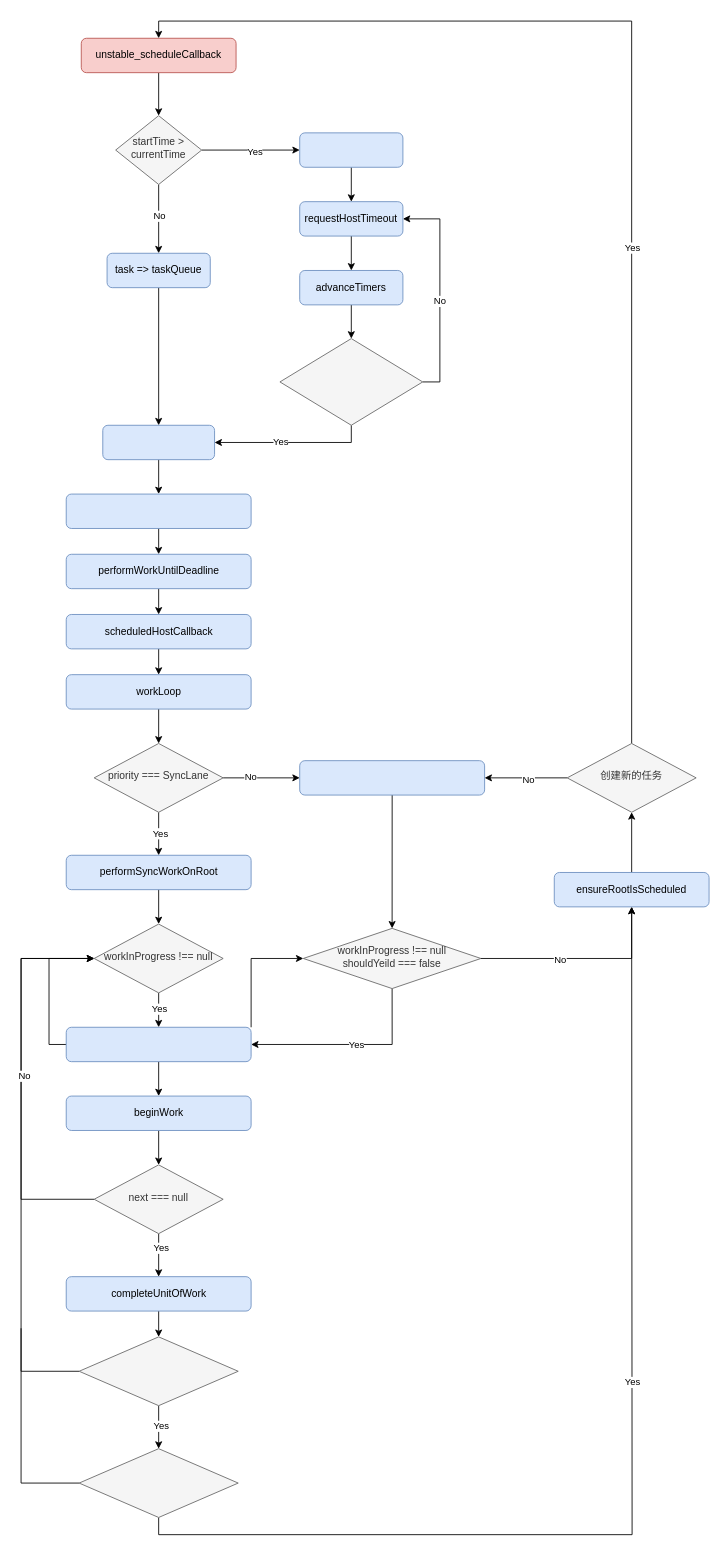
This 724x1557 diagram has some shape labels left out. The shapes that lost their labels are listed below. From the top down, each one's centre as x and y in pixels, then its label:
At (351,149): "task => timerQueue".
At (351,381): "taskQueue.length === 0 startTime < currentTime".
At (158,442): "requesetHostCallback".
At (158,510): "schedulePerformWorkUntilDeadline".
At (392,777): "performConcurrentWorkOnRoot".
At (158,1044): "performUnitOfWork".
At (158,1371): "FiberNode.sibling === null".
At (158,1482): "FiberNode.returnFiber === null".
